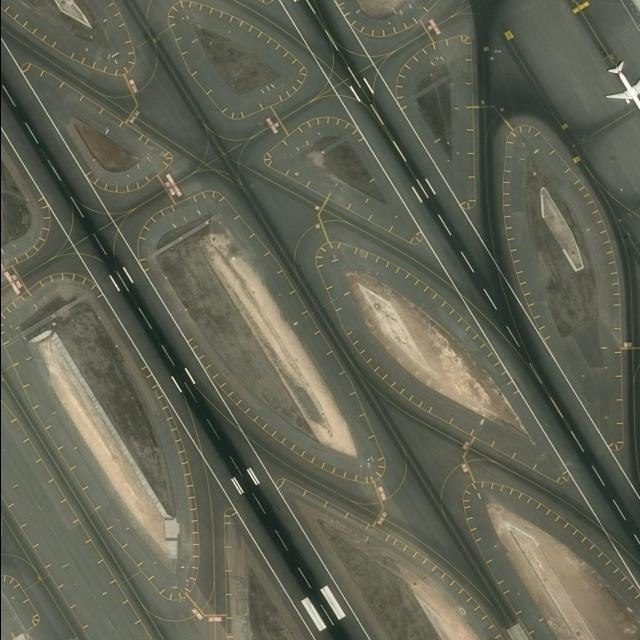Aircraft: (598, 55, 640, 121)
